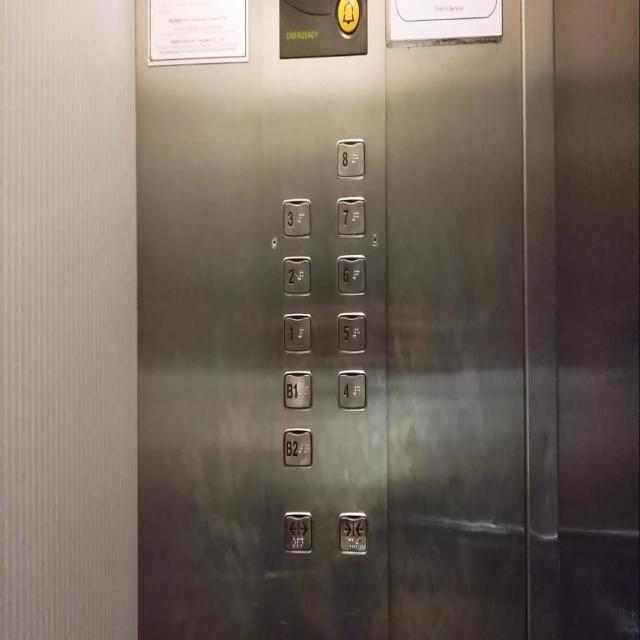1: (282, 310, 312, 353)
2: (280, 253, 312, 297)
3: (281, 196, 312, 241)
4: (336, 367, 366, 410)
5: (336, 310, 367, 353)
6: (336, 252, 366, 295)
7: (335, 194, 366, 238)
8: (334, 136, 366, 182)
B1: (281, 368, 313, 412)
B2: (282, 424, 313, 468)
alarm: (335, 0, 363, 39)
close: (337, 510, 369, 556)
open: (282, 509, 313, 555)
